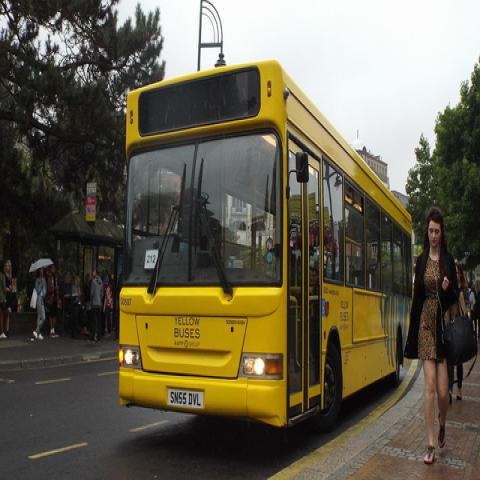bus: (119, 61, 413, 437)
